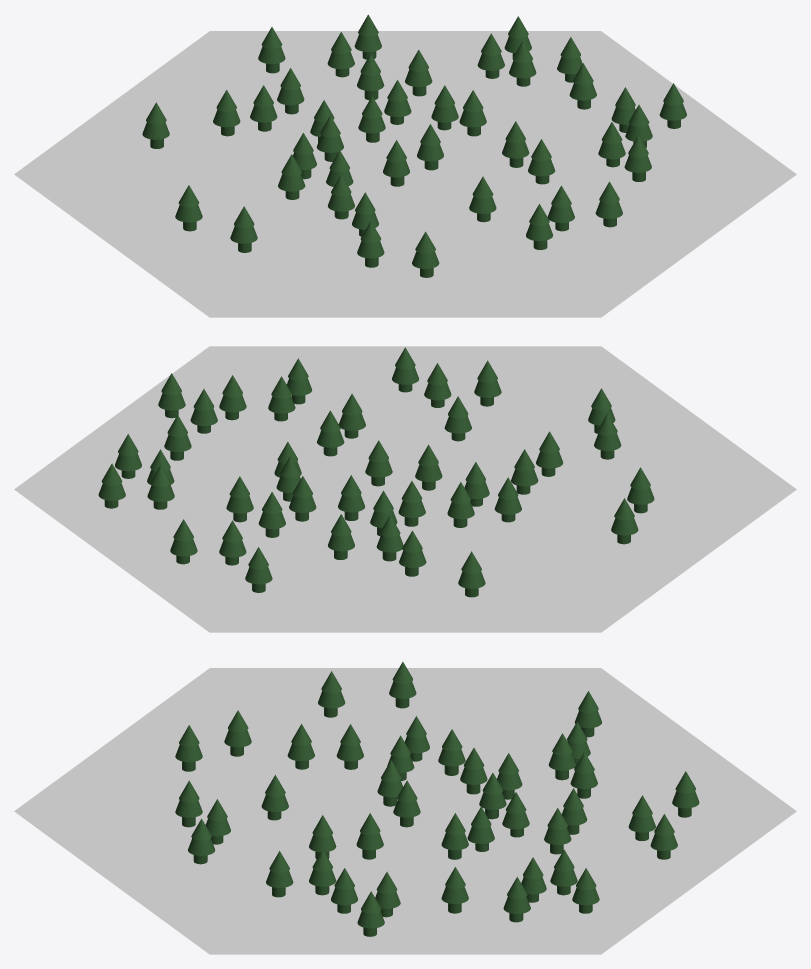
Rendered from newforest.fbx.
3 renders of one model, top to bottom at view 1: azimuth 30°, elevation 25°; view 2: azimuth 150°, elevation 25°; view 3: azimuth 270°, elevation 25°, orthographic.
Visible parts, largest first — view 1: Circle, Cylinder.030, Cylinder.007, Cylinder.029, Cylinder.011, Cylinder.010, Cylinder.027, Cylinder.004, Cylinder.008, Cylinder.028, Cylinder.026, Cylinder.009 (+18 smaller); view 2: Circle, Cylinder.004, Cylinder.030, Cylinder.007, Cylinder.026, Cylinder.009, Cylinder.008, Cylinder.010, Cylinder.029, Cylinder.028, Cylinder.035, Cylinder.011 (+17 smaller); view 3: Circle, Cylinder.004, Cylinder.007, Cylinder.008, Cylinder.009, Cylinder.010, Cylinder.026, Cylinder.011, Cylinder.030, Cylinder.033, Cylinder.029, Cylinder.027 (+18 smaller).
Part boxes in pixels (x1,y1,x2,y2): Circle: [14, 31, 796, 317]; Cylinder.030: [357, 49, 432, 100]; Cylinder.007: [250, 68, 304, 131]; Cylinder.029: [547, 181, 622, 231]; Cylinder.011: [384, 80, 458, 130]; Cylinder.010: [327, 14, 381, 77]; Cylinder.027: [509, 37, 582, 86]; Cylinder.004: [293, 115, 343, 179]; Cylinder.008: [598, 104, 652, 167]; Cylinder.028: [611, 83, 686, 132]; Cylinder.026: [328, 174, 378, 236]; Cylinder.009: [477, 16, 531, 78]; Circle: [14, 346, 796, 632]; Cylinder.004: [398, 481, 474, 527]; Cylinder.030: [226, 476, 285, 537]; Cylinder.007: [328, 514, 403, 561]; Cylinder.026: [511, 431, 563, 494]; Cylinder.009: [98, 463, 174, 509]; Cylinder.008: [219, 375, 295, 421]; Cylinder.010: [170, 519, 246, 565]; Cylinder.029: [392, 347, 451, 407]; Cylinder.028: [158, 373, 217, 433]; Cylinder.035: [464, 462, 521, 522]; Cylinder.011: [276, 456, 316, 521]; Circle: [14, 668, 796, 954]; Cylinder.004: [438, 729, 487, 794]; Cylinder.007: [548, 733, 597, 798]; Cylinder.008: [309, 849, 357, 913]; Cylinder.009: [550, 849, 599, 913]; Cylinder.010: [628, 795, 677, 859]; Cylinder.026: [287, 724, 363, 769]; Cylinder.011: [467, 792, 529, 851]; Cylinder.030: [544, 788, 587, 854]; Cylinder.033: [479, 753, 522, 819]; Cylinder.029: [188, 799, 230, 864]; Cylinder.027: [503, 857, 546, 922].
Bounding box in the file's own units: 173 × 13.68 × 200.
